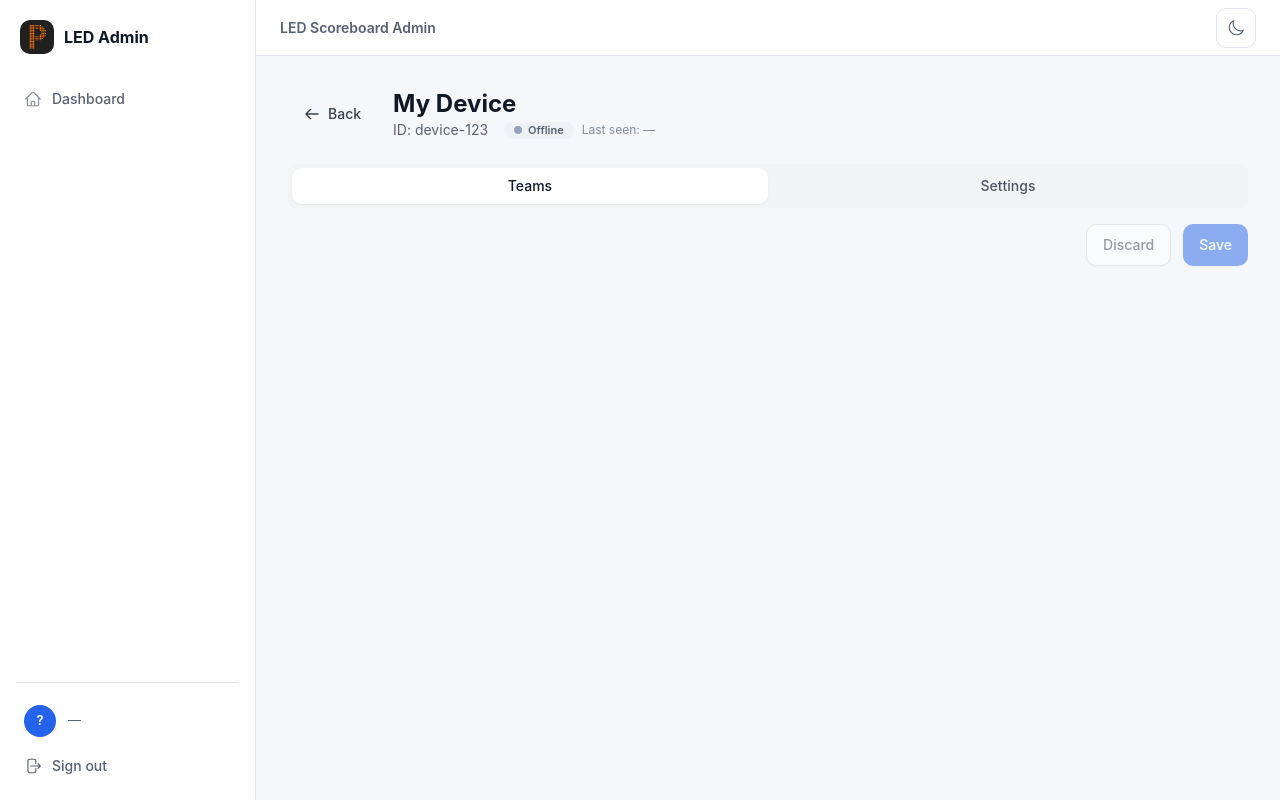
Scenario: DevicePage – rename message live-region and fetch guard › shows "Save failed: <status>" with role=alert when PATCH returns a non-JSON error
This screenshot has width=1280, height=800.
Click the tab "Settings". click: {"x": 1008, "y": 186}
box: [772,168,1244,204]
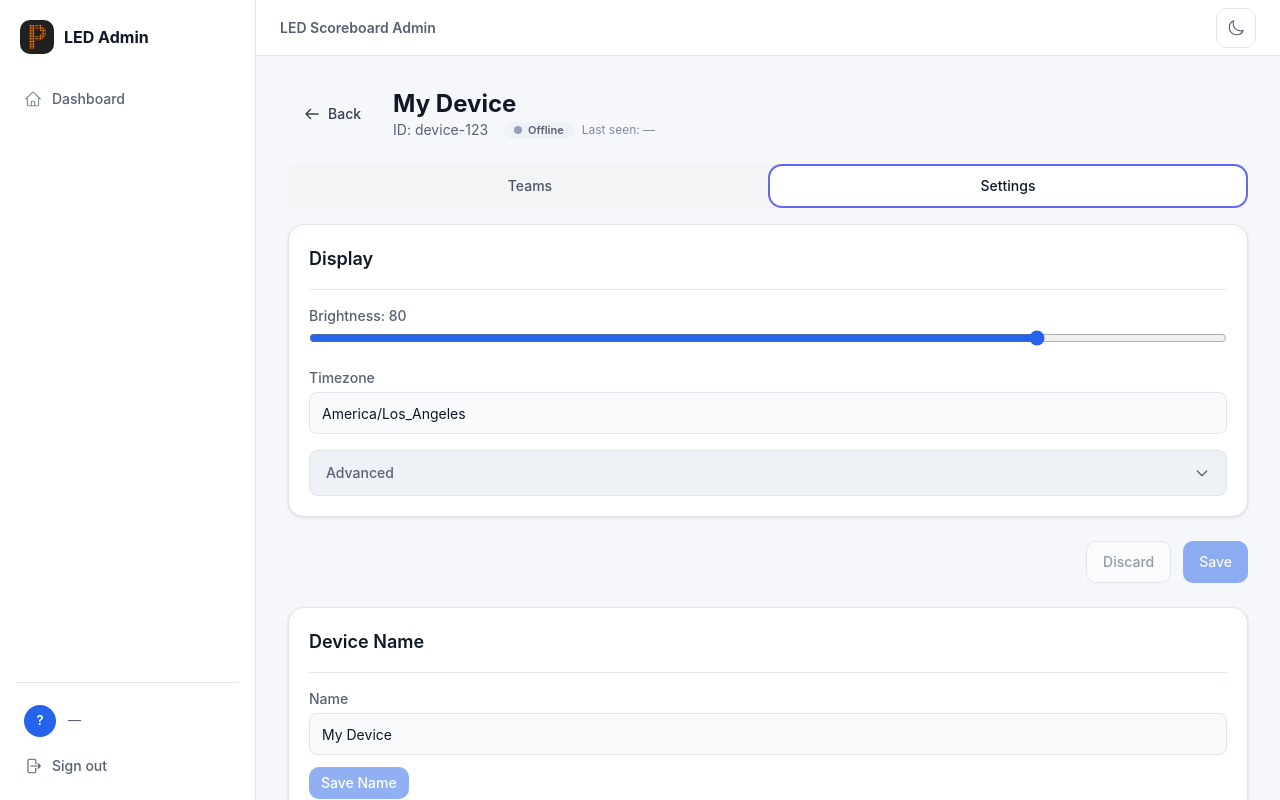
Replace the text in the field with placeholder "My Scoreboard" with "New Name". click: {"x": 768, "y": 734}
box: [309,713,1227,755]
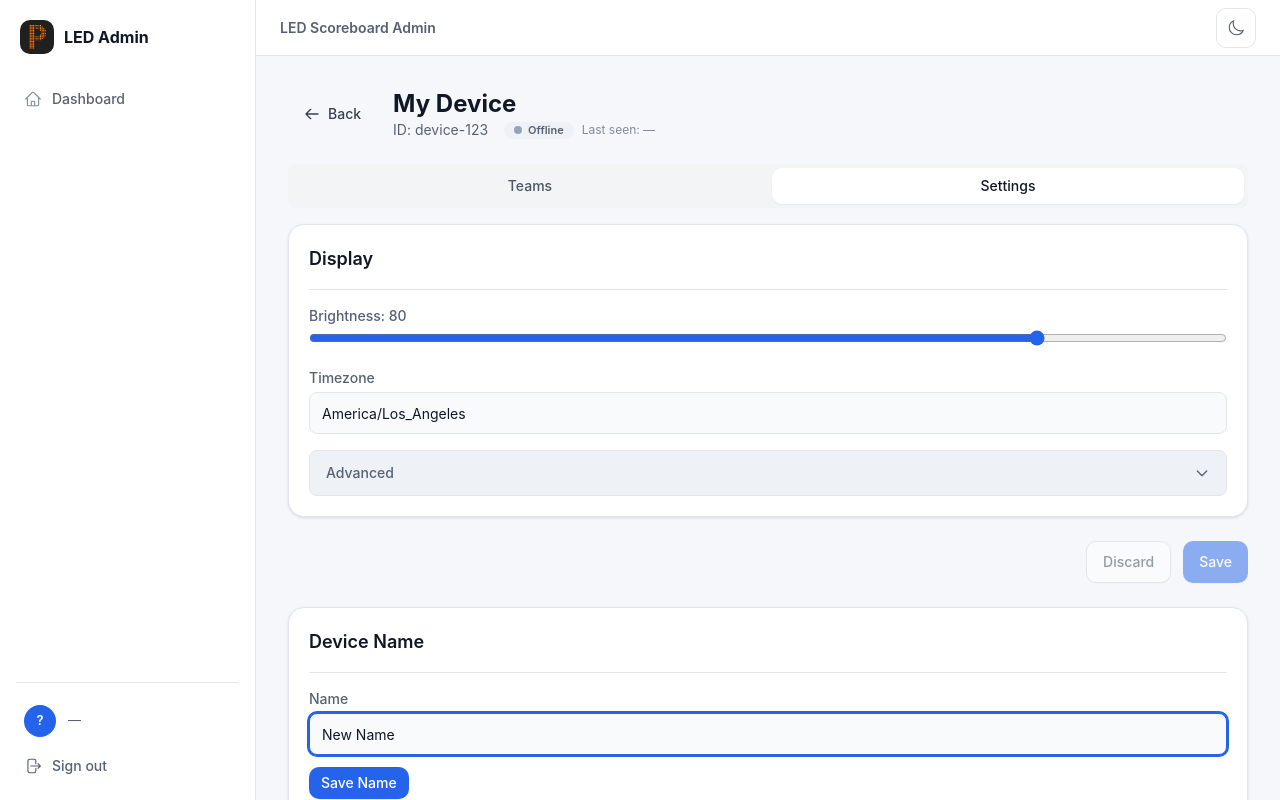
Click the button "Save Name". click: {"x": 359, "y": 783}
box: [309,767,409,799]
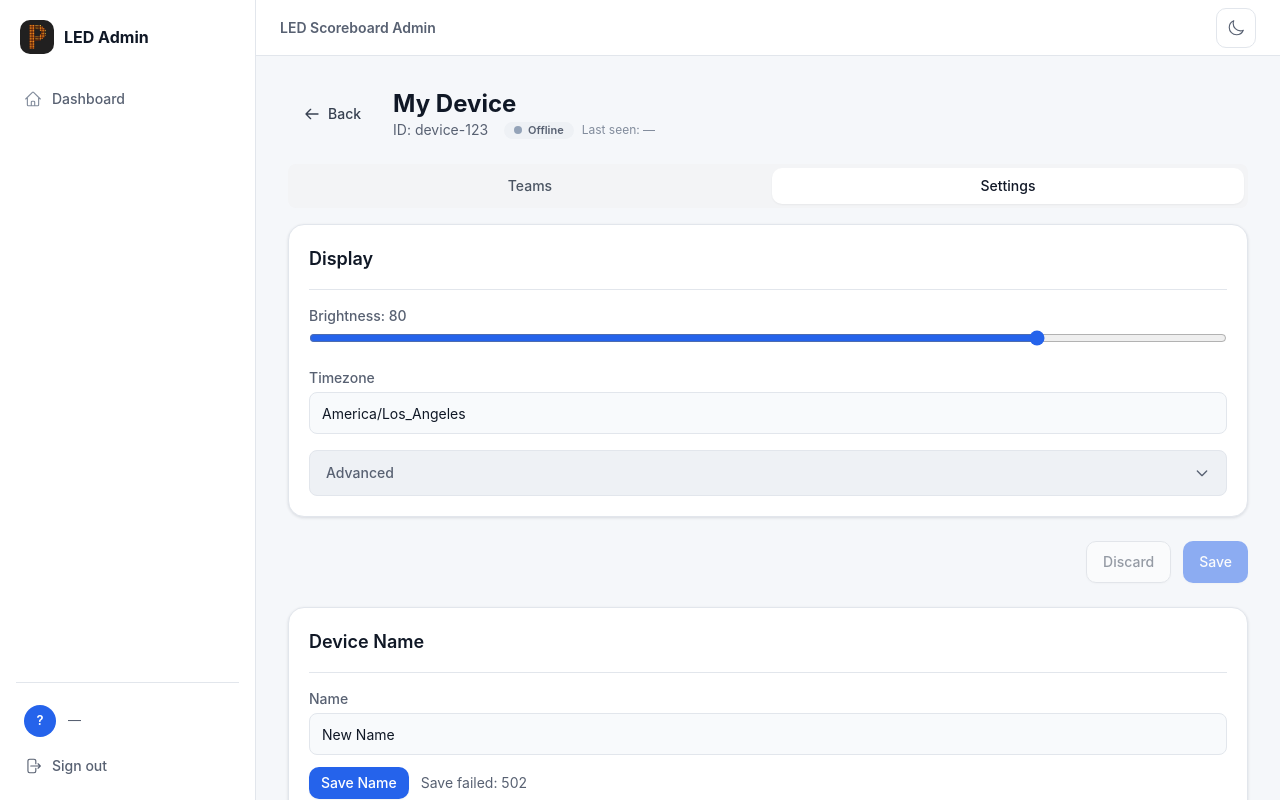
Result: the message reads "Save failed: 502" at [421,774,527,791]
